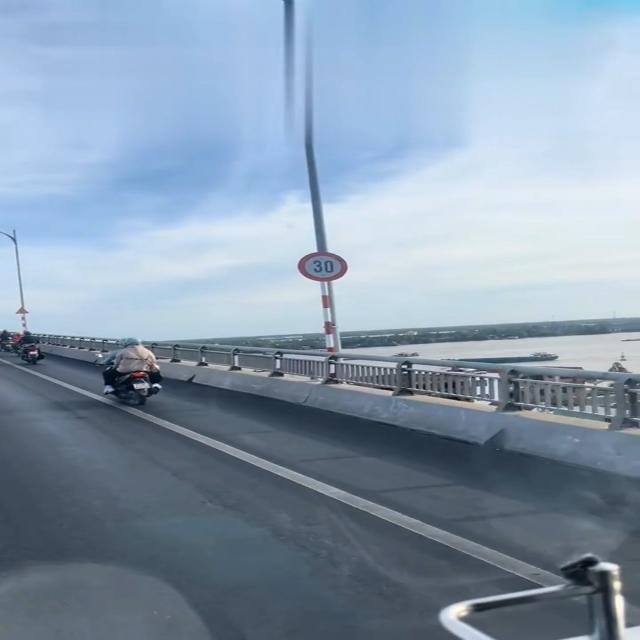127-toc-do-toi-da-30: (297, 252, 347, 282)
